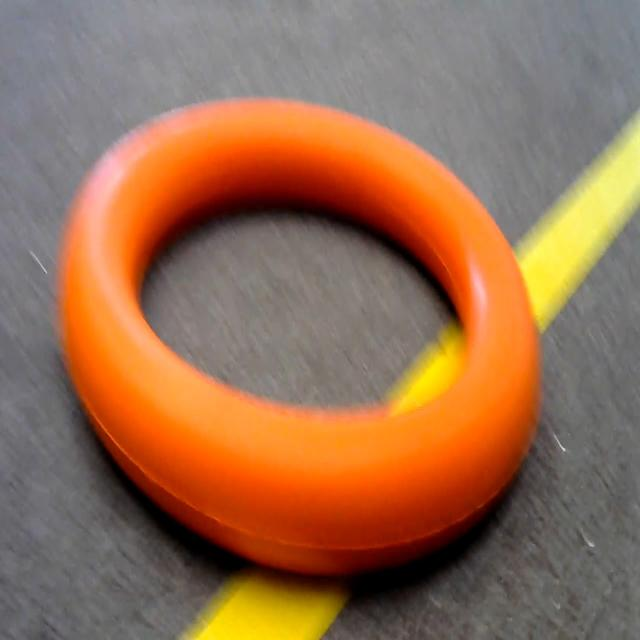note: (49, 89, 558, 602)
